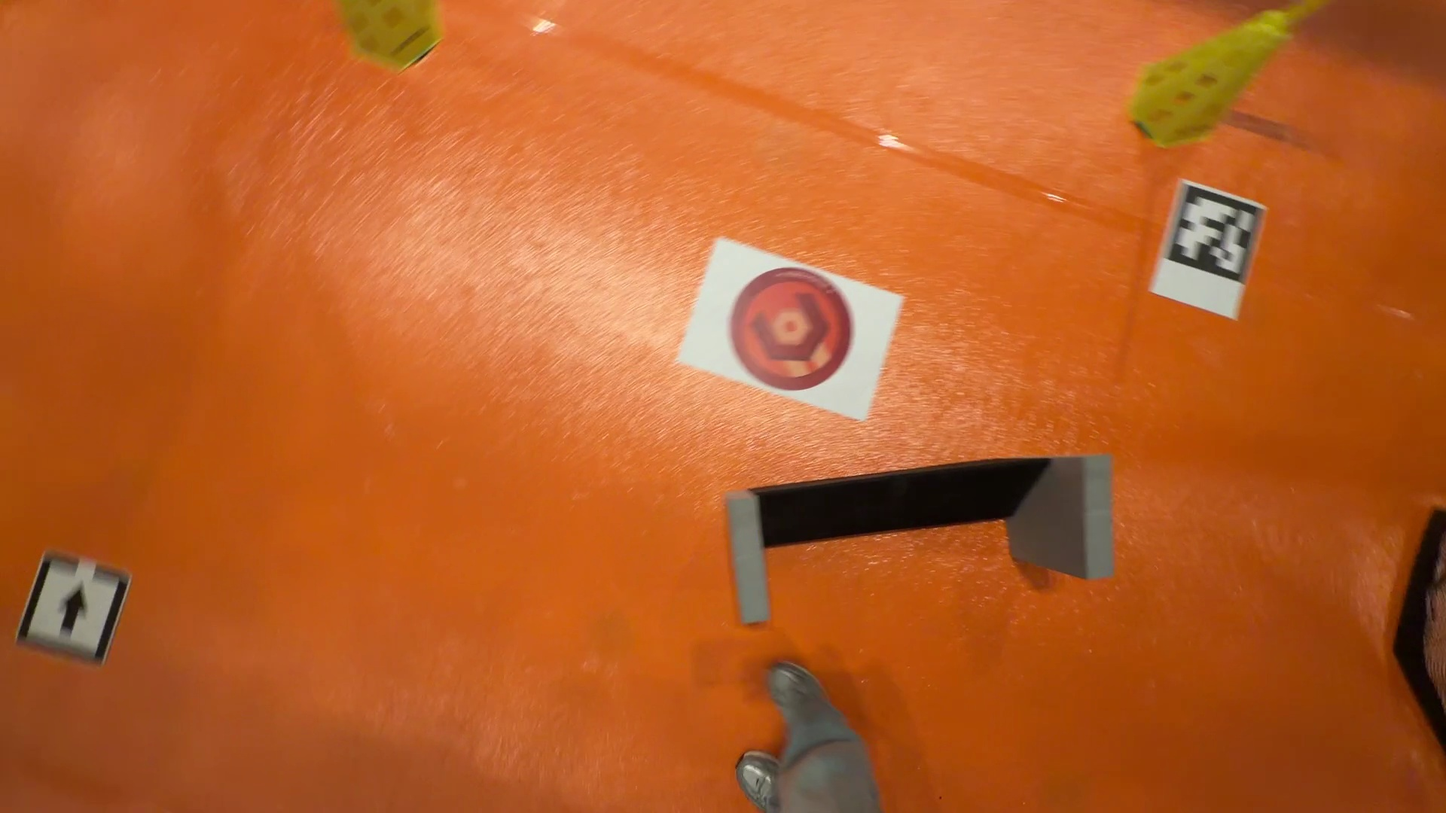landing_pad: (725, 266, 861, 390)
